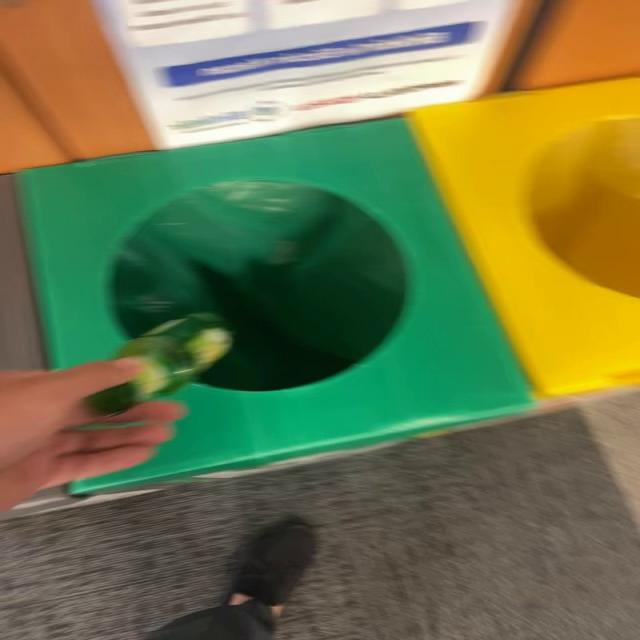glass: (87, 313, 232, 415)
